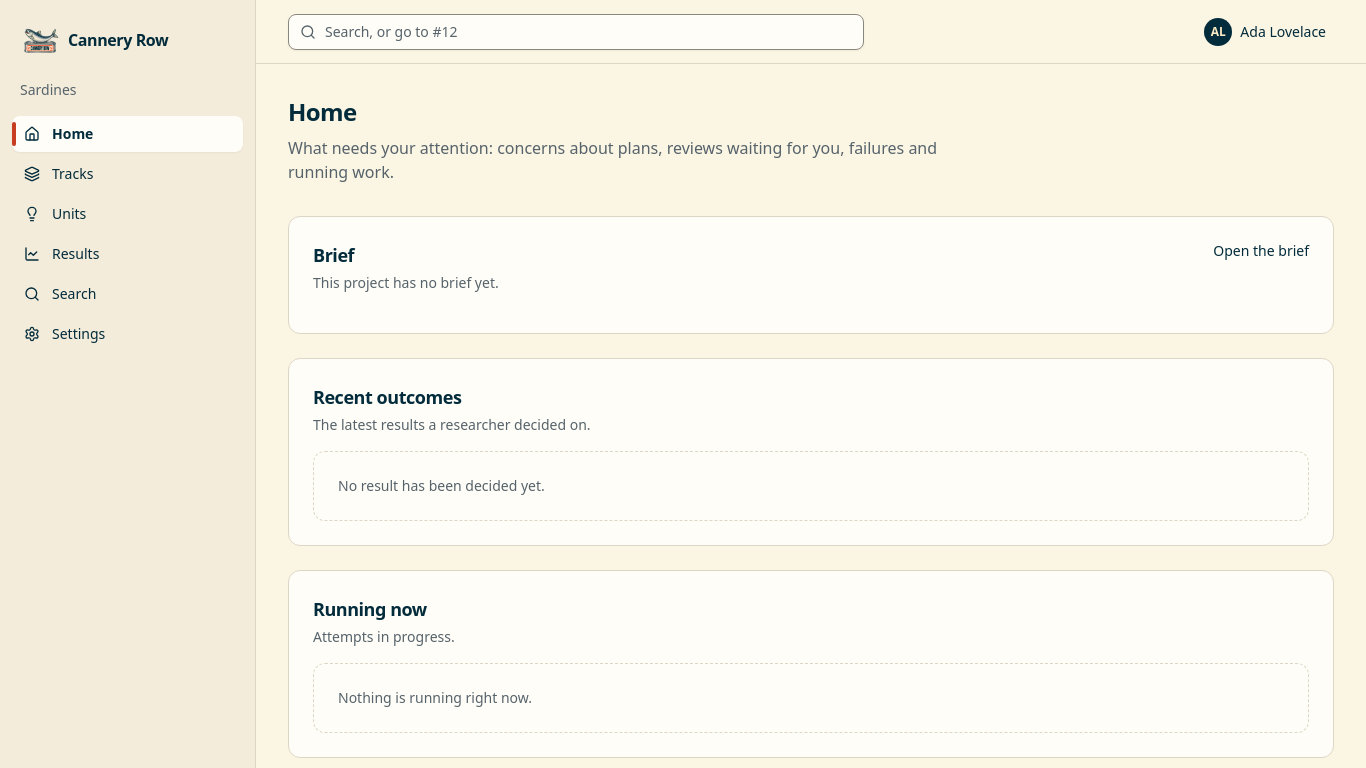
Test: a viewer finds an outcome and its reason in three clicks › from the list: Units, Show archived, then the row
What coordinates should you click on to do the following:
click the link "Units"
I would click on:
 (55, 214)
Its box is [24,204,86,223].
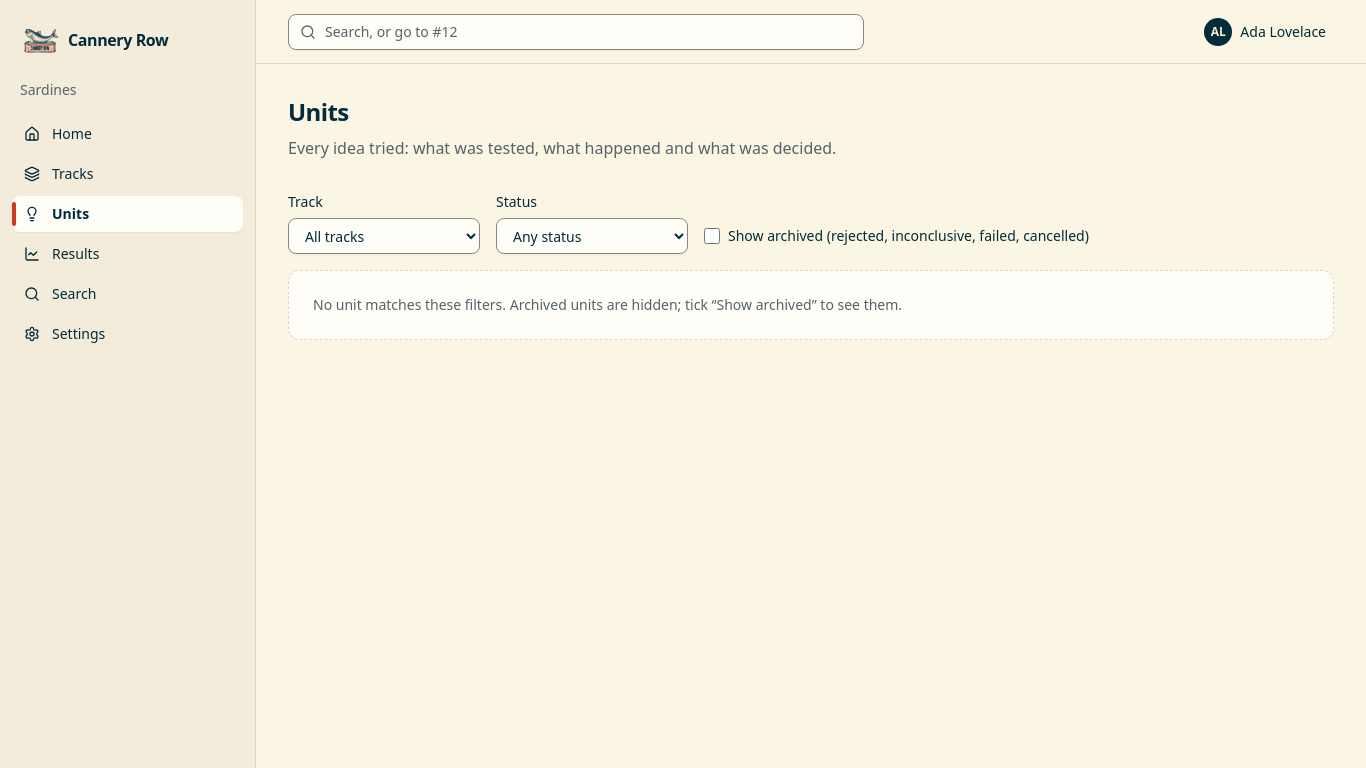
What coordinates should you click on to do the following:
click the checkbox labelled "Show archived (rejected, inconclusive, failed, cancelled)"
I would click on:
 (712, 236)
Its box is [704,228,720,244].
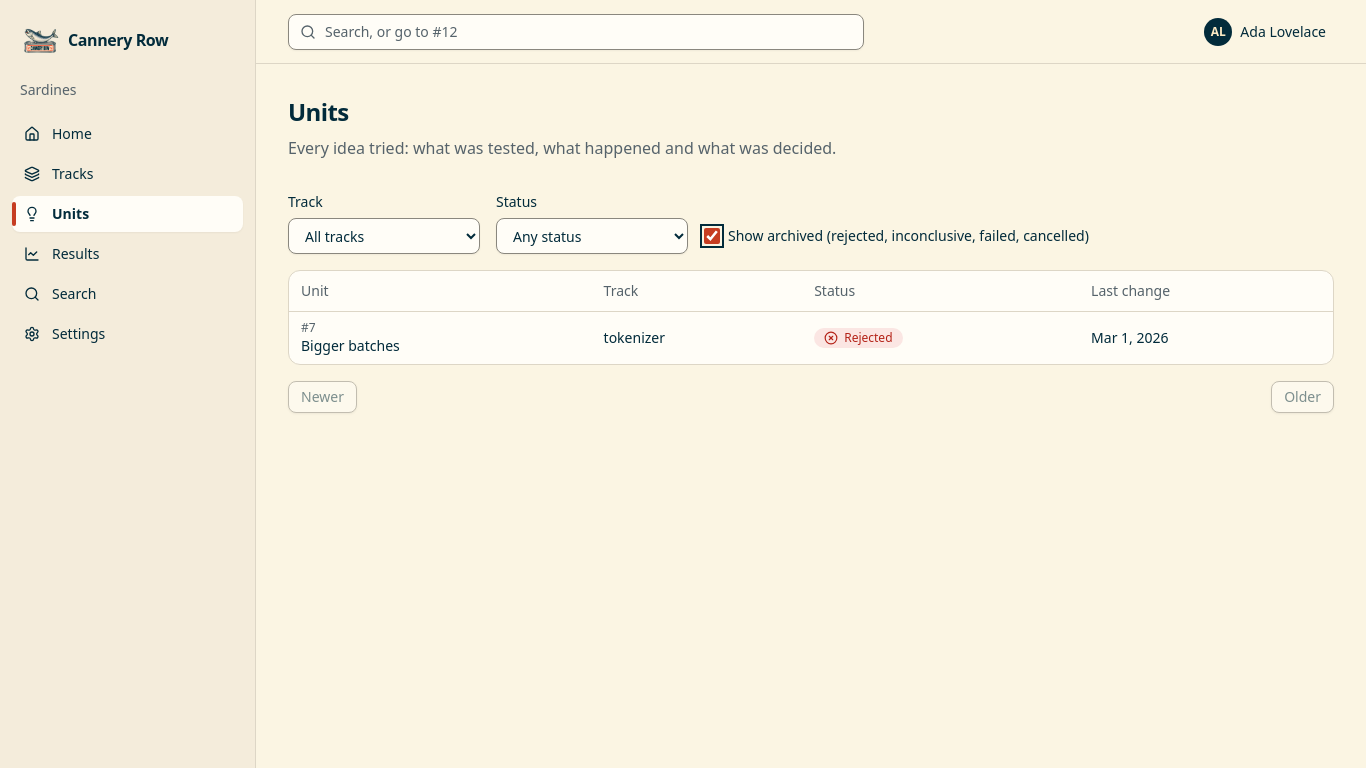
What coordinates should you click on to do the following:
click the link "#7 Bigger batches"
I would click on:
 (350, 336)
Its box is [301,318,400,354].
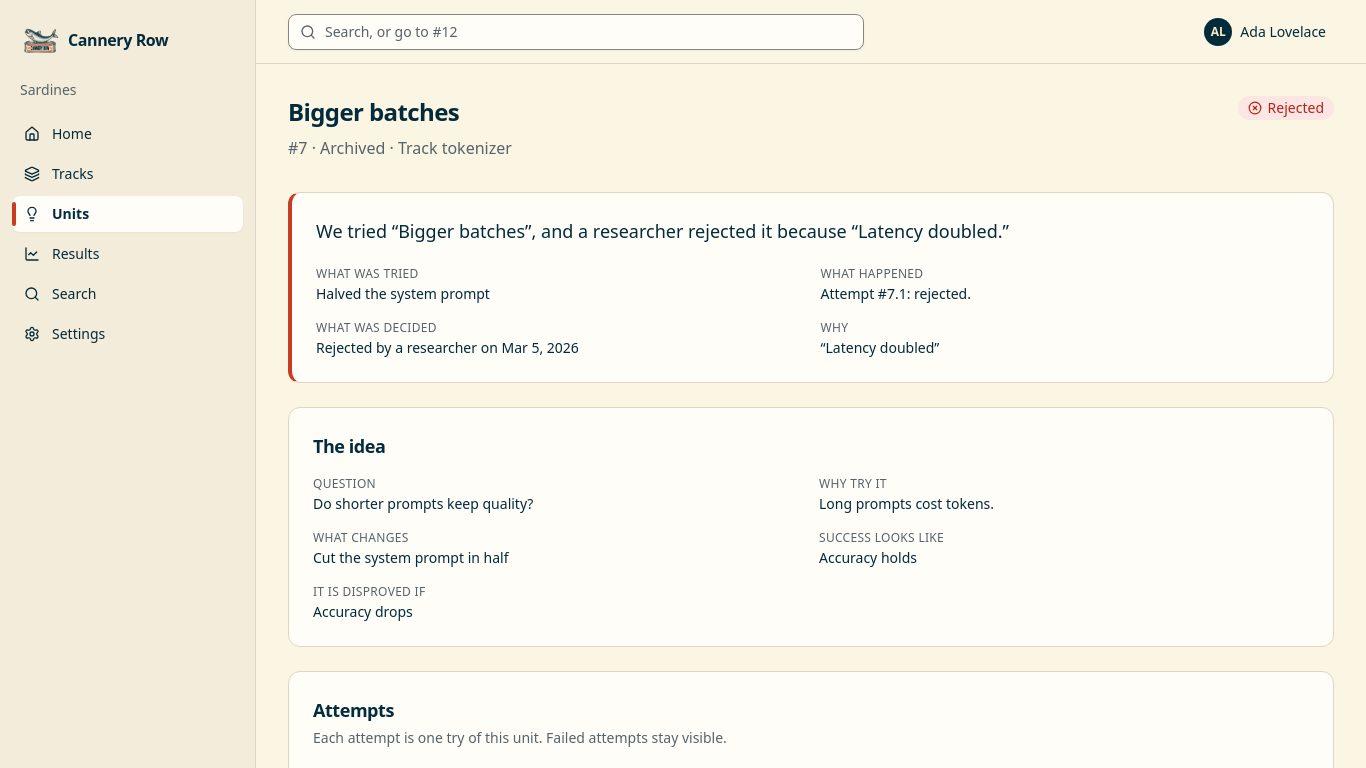
Expected: the text with test id "outcome-sentence" shows "We tried “Bigger batches”, and a researcher rejected it because “Latency doubled.”", [316,219,1009,243]
